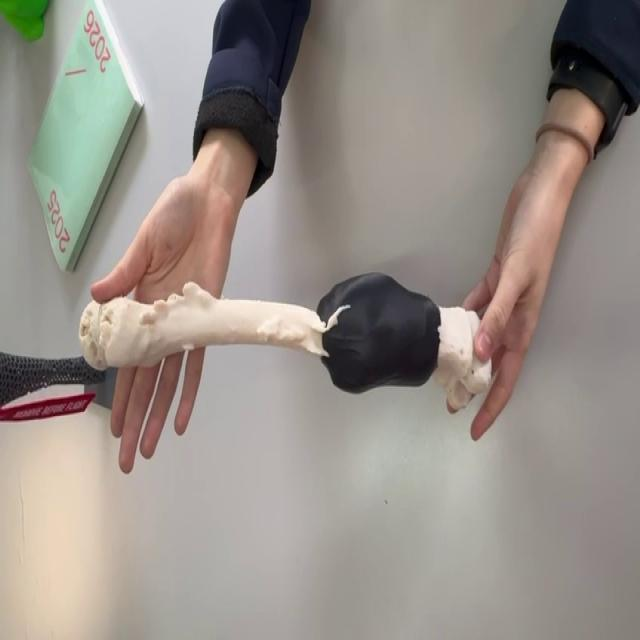bones: (80, 274, 491, 409)
